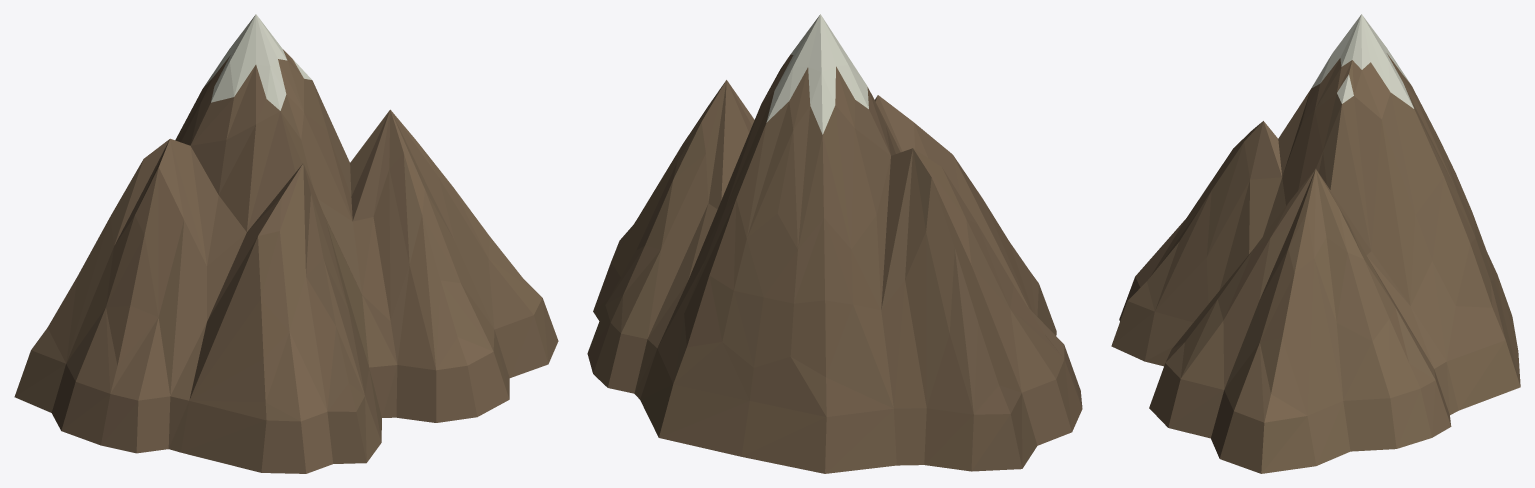
File: rock_mid.glb
The picture shows the model from 3 angles, left to right: view 1: azimuth 30°, elevation 25°; view 2: azimuth 150°, elevation 25°; view 3: azimuth 270°, elevation 25°; orthographic projection. The views are drawn at different scales.
Parts seen in each view (by area): view 1: rock_mid; view 2: rock_mid; view 3: rock_mid.
Part boxes in pixels (x1,y1,x2,y2): rock_mid: (14,14,558,473); rock_mid: (587,14,1082,473); rock_mid: (1111,14,1520,473).
Size of the model in its own units: 1.6 by 1.15 by 1.25.
